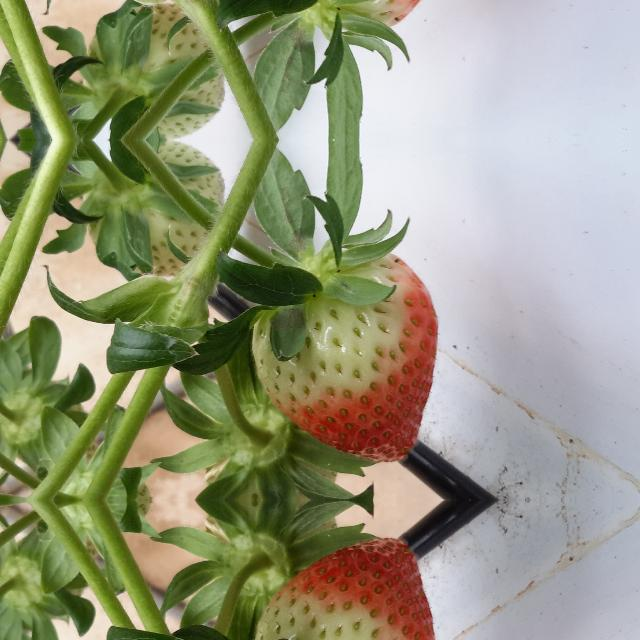Health_25: (81, 156, 229, 290), (81, 0, 229, 124)
Health_75: (250, 252, 440, 462), (250, 538, 439, 640)
